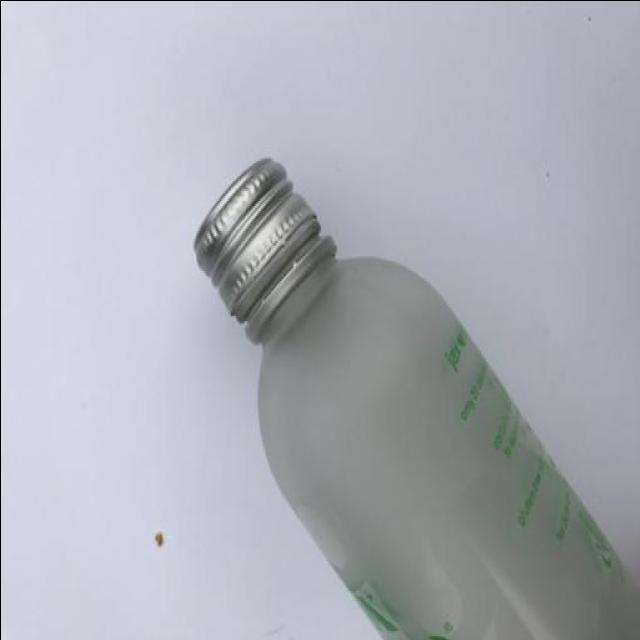glass: (181, 133, 640, 640)
